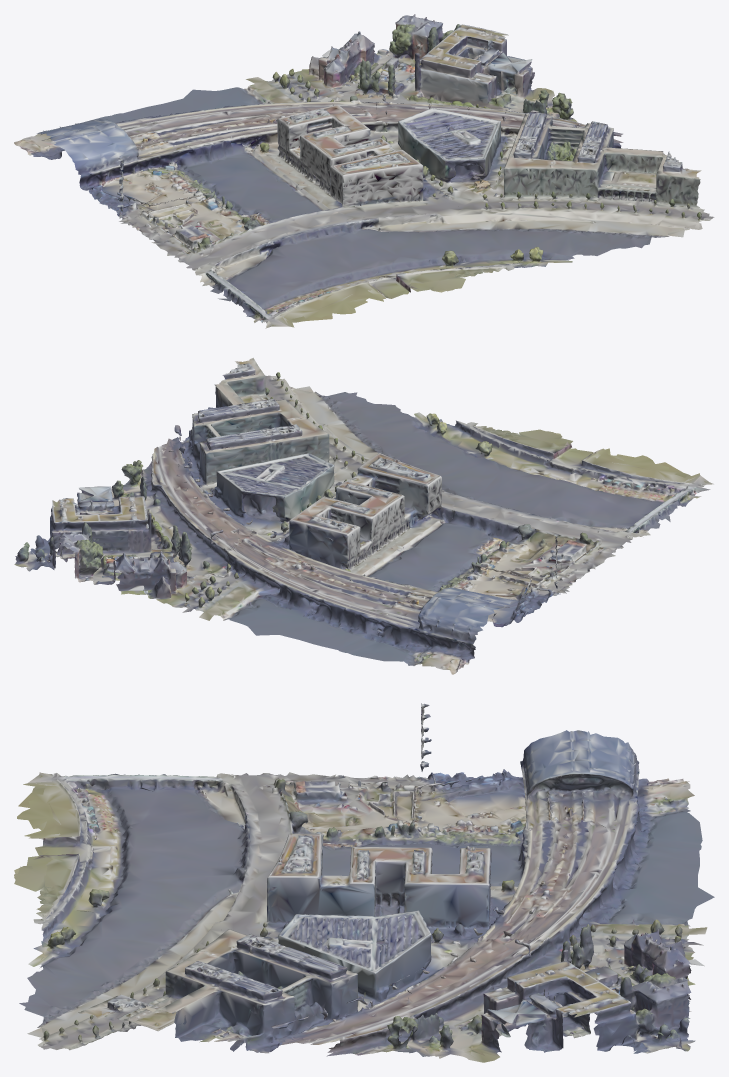
The model's file is surface-detail-3894_58203.glb.
3 views of the same model, one above another, from view 1: azimuth 30°, elevation 25°; view 2: azimuth 150°, elevation 25°; view 3: azimuth 270°, elevation 25° (orthographic). The views are drawn at different scales.
Parts seen in each view (by area): view 1: world; view 2: world; view 3: world.
Boxes of the visible parts, <box> form: world: <box>14,14,714,328</box>; world: <box>14,358,713,674</box>; world: <box>14,703,714,1062</box>.
Bounding box in the file's own units: 382 × 51.32 × 393.
